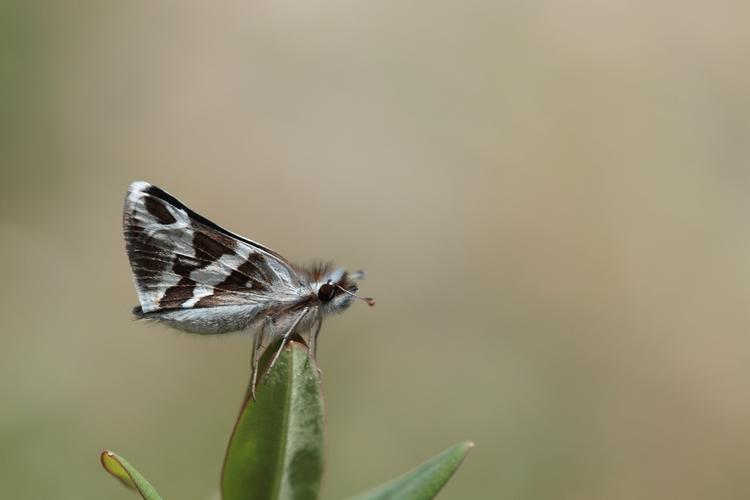Hesperiidae: (123, 177, 378, 377)
